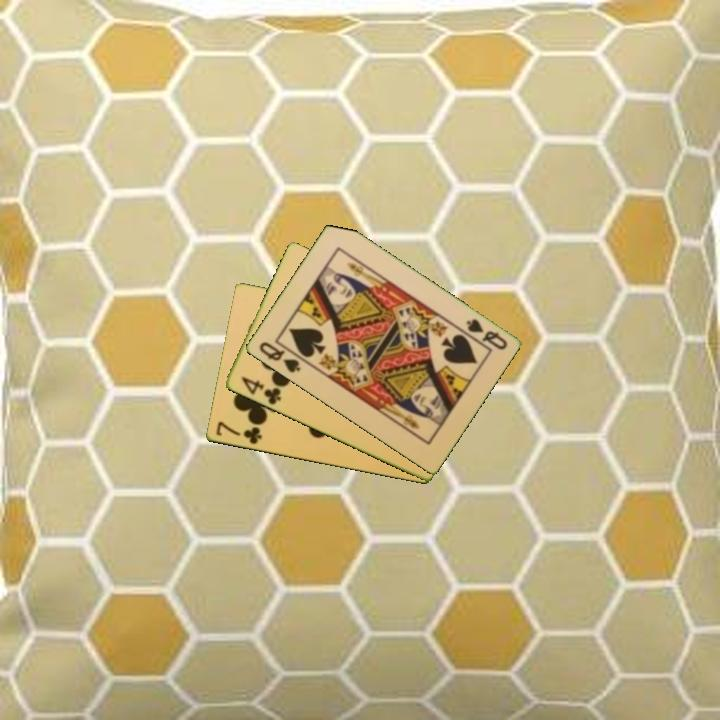4c: (237, 373, 284, 408)
7c: (212, 418, 264, 447)
Qs: (255, 338, 303, 376), (462, 315, 510, 353)
